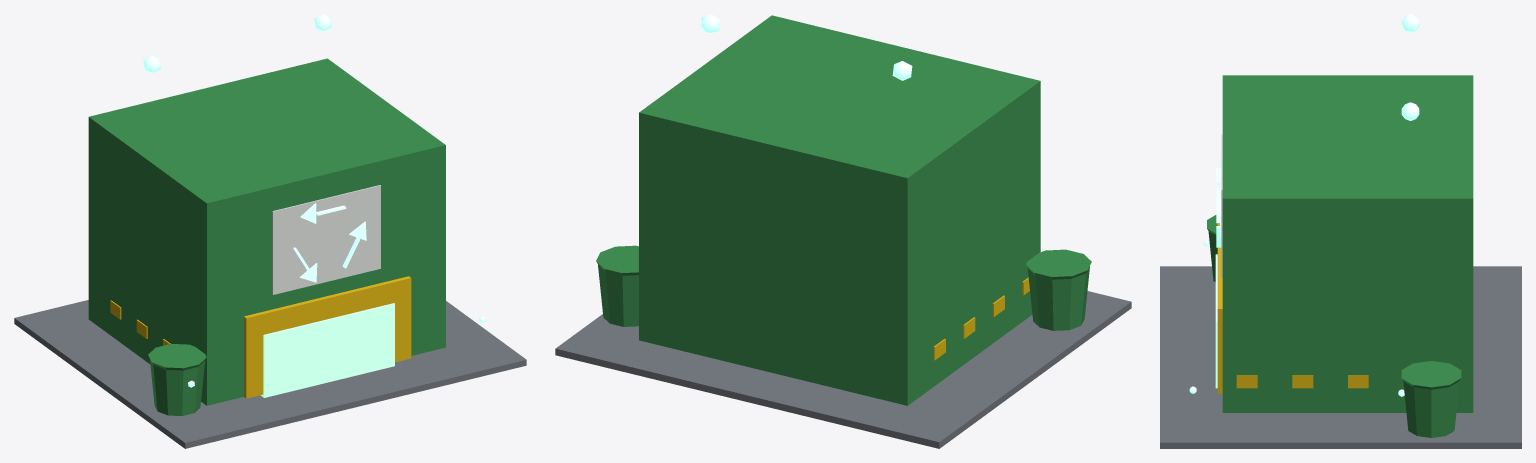
The model's file is RecyclerFurnace_Roblox.fbx.
The picture shows the model from 3 angles, left to right: view 1: azimuth 30°, elevation 25°; view 2: azimuth 150°, elevation 25°; view 3: azimuth 270°, elevation 25°; orthographic projection. The views are drawn at different scales.
Visible parts, largest first — view 1: RecyclerGreen, SteelPlate, EmblemWhite, BurnZone, HazardYellow, RecycleGlow; view 2: RecyclerGreen, SteelPlate, HazardYellow, RecycleGlow; view 3: RecyclerGreen, SteelPlate, HazardYellow, RecycleGlow, BurnZone.
Part boxes in pixels (x1=…): RecyclerGreen: x1=88, y1=58, x2=445, y2=415; SteelPlate: x1=14, y1=300, x2=526, y2=448; EmblemWhite: x1=272, y1=185, x2=380, y2=294; BurnZone: x1=260, y1=303, x2=394, y2=397; HazardYellow: x1=110, y1=276, x2=411, y2=398; RecycleGlow: x1=143, y1=14, x2=485, y2=387; RecyclerGreen: x1=596, y1=15, x2=1091, y2=405; SteelPlate: x1=555, y1=291, x2=1131, y2=448; HazardYellow: x1=933, y1=277, x2=1029, y2=360; RecycleGlow: x1=700, y1=14, x2=912, y2=80; RecyclerGreen: x1=1207, y1=75, x2=1473, y2=437; SteelPlate: x1=1160, y1=266, x2=1521, y2=448; HazardYellow: x1=1217, y1=223, x2=1403, y2=393; RecycleGlow: x1=1189, y1=14, x2=1419, y2=396; BurnZone: x1=1215, y1=254, x2=1217, y2=388.
Size of the model in its own units: 1210 by 1060 by 1040.
